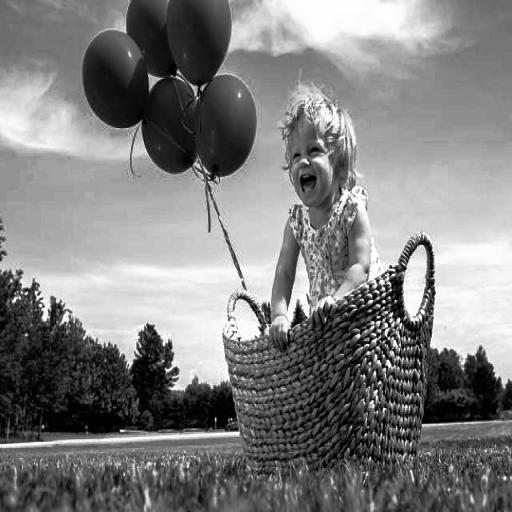balloon: (82, 26, 148, 124), (194, 77, 253, 170), (168, 0, 234, 82), (146, 78, 194, 172), (126, 0, 180, 80)
